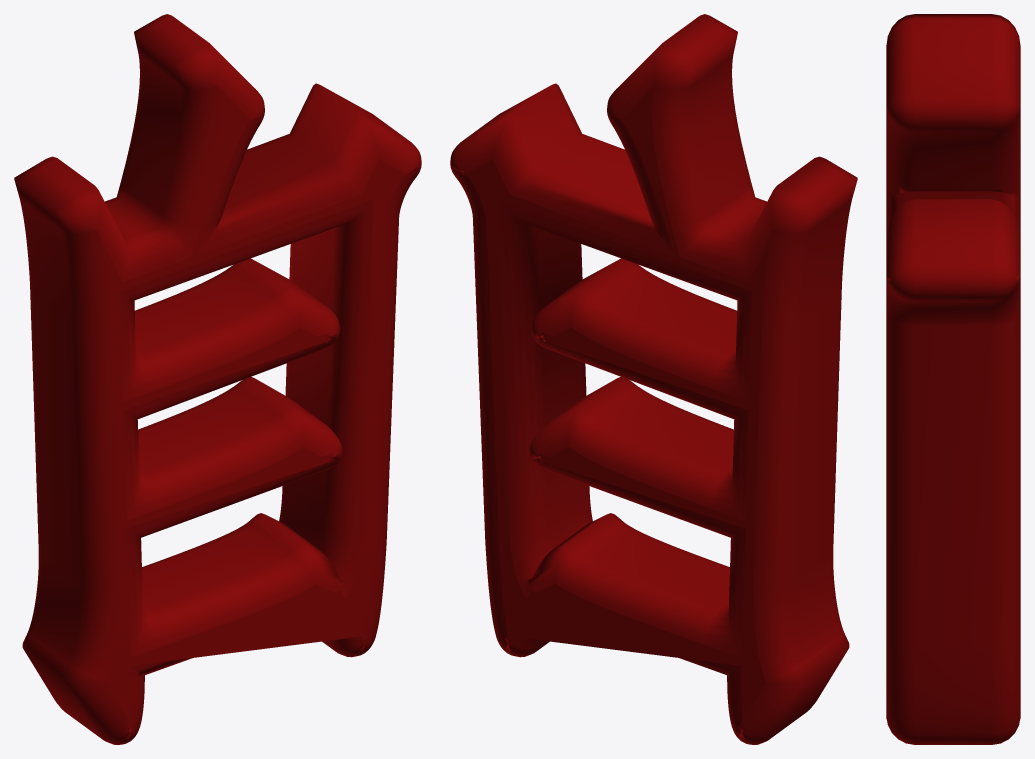
The picture shows the model from 3 angles, left to right: view 1: azimuth 30°, elevation 25°; view 2: azimuth 150°, elevation 25°; view 3: azimuth 270°, elevation 25°; orthographic projection.
Visible parts, largest first — view 1: zi; view 2: zi; view 3: zi.
Part boxes in pixels (box(x1,y1,x2,y2)): zi: box(14, 14, 421, 744); zi: box(450, 14, 857, 744); zi: box(886, 14, 1020, 744).
Bounding box in the file's own units: 44.29 × 78.89 × 14.
